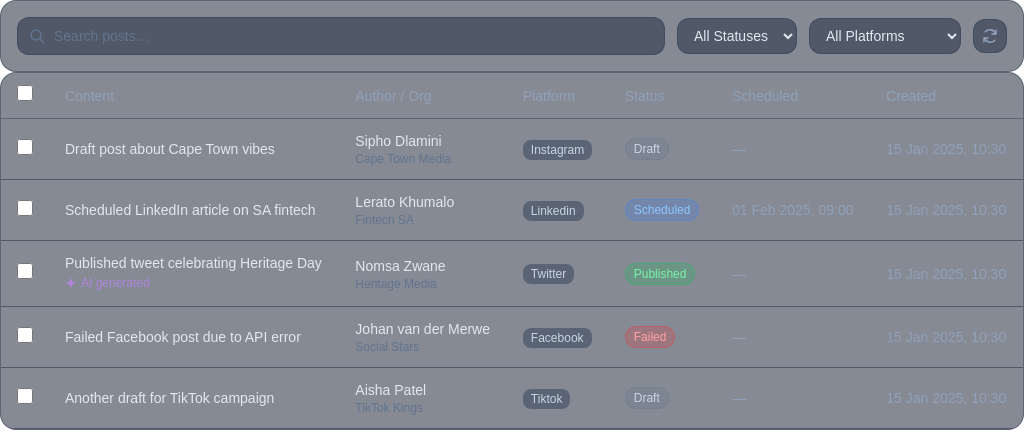
it: PostModerationTable › Filtering › filters by platform
This screenshot has width=1024, height=447.
Select "Facebook" in the dropdown named "filter by platform" at (885, 36), box [809, 18, 961, 54]
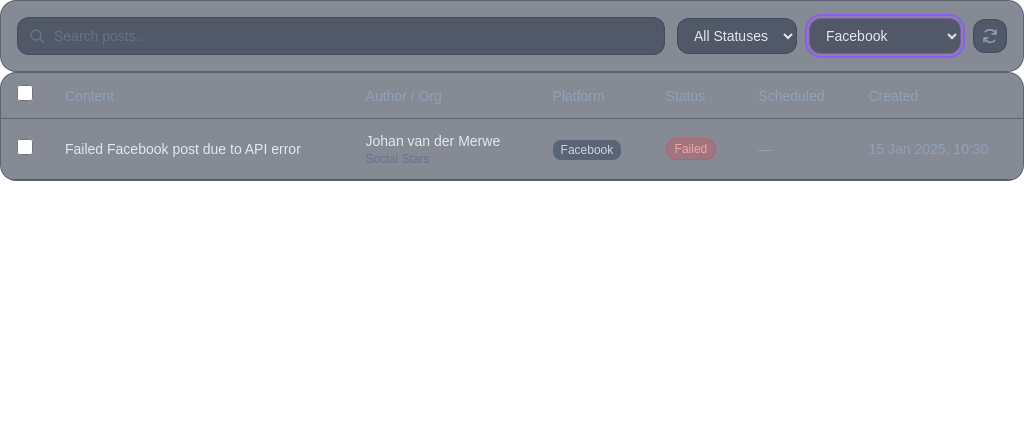
Expected: the text "Failed Facebook post due to API error" is shown, [65, 139, 301, 159]
Result: the button "Draft post about Cape Town" is gone
